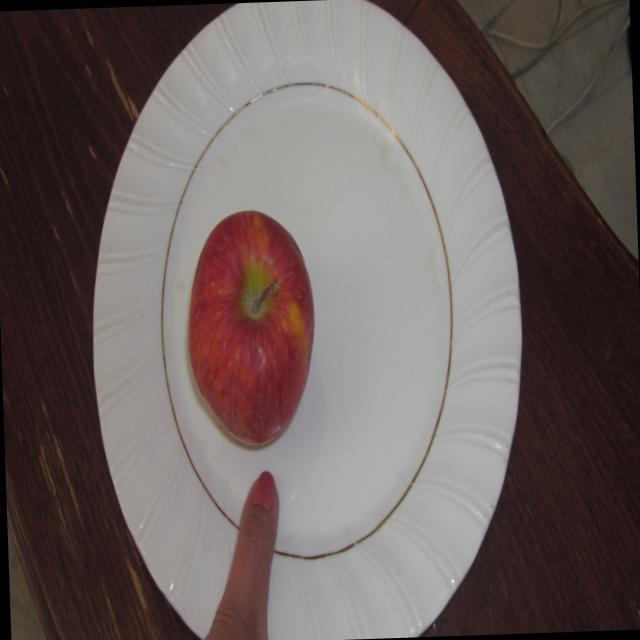Apple: (173, 194, 324, 460)
Finger: (210, 463, 288, 602)
